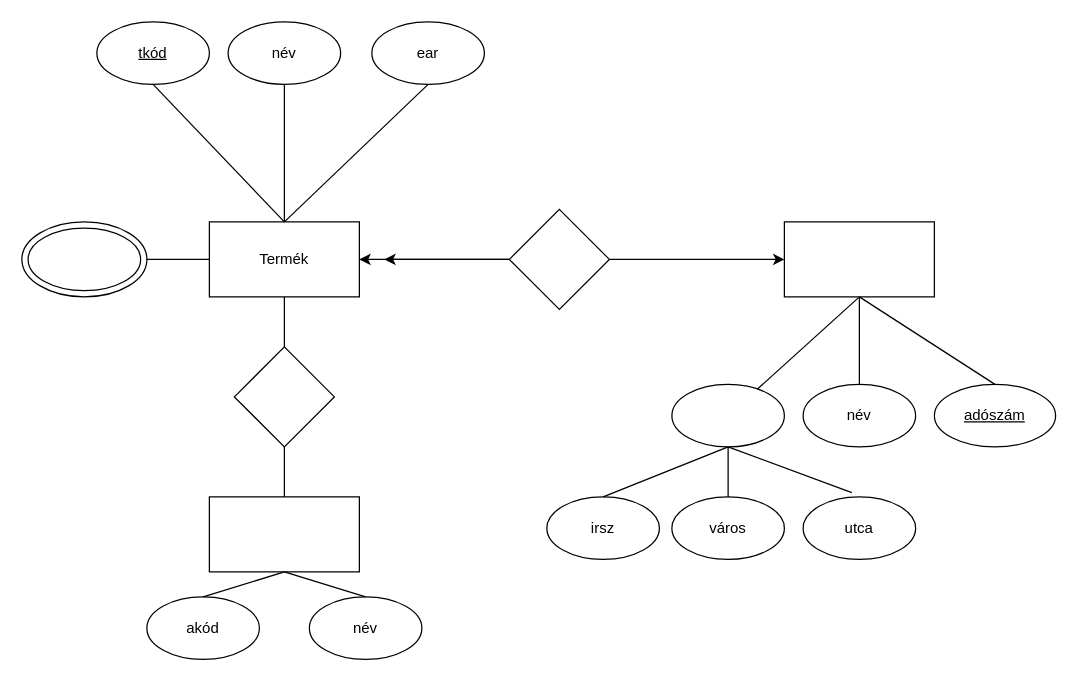
Image size: 1078x681. Some labels were removed from this diagram. Here are the shapes that lost their labels. From the top down, the centre of each, then its label:
point (84, 259): egységek darabszáma
point (558, 258): T_GY
point (858, 259): Gyártó
point (283, 396): T_A
point (727, 415): telephely
point (283, 534): alkatrész
